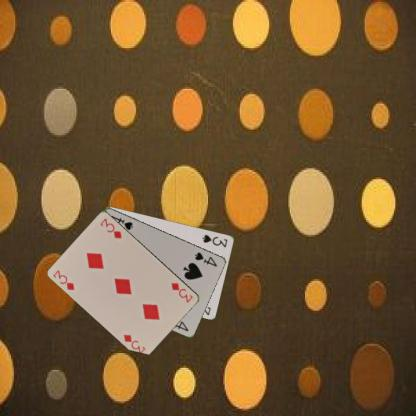3d: (51, 267, 76, 292), (169, 280, 194, 304)
3s: (200, 232, 229, 248)
4s: (192, 249, 218, 268)
